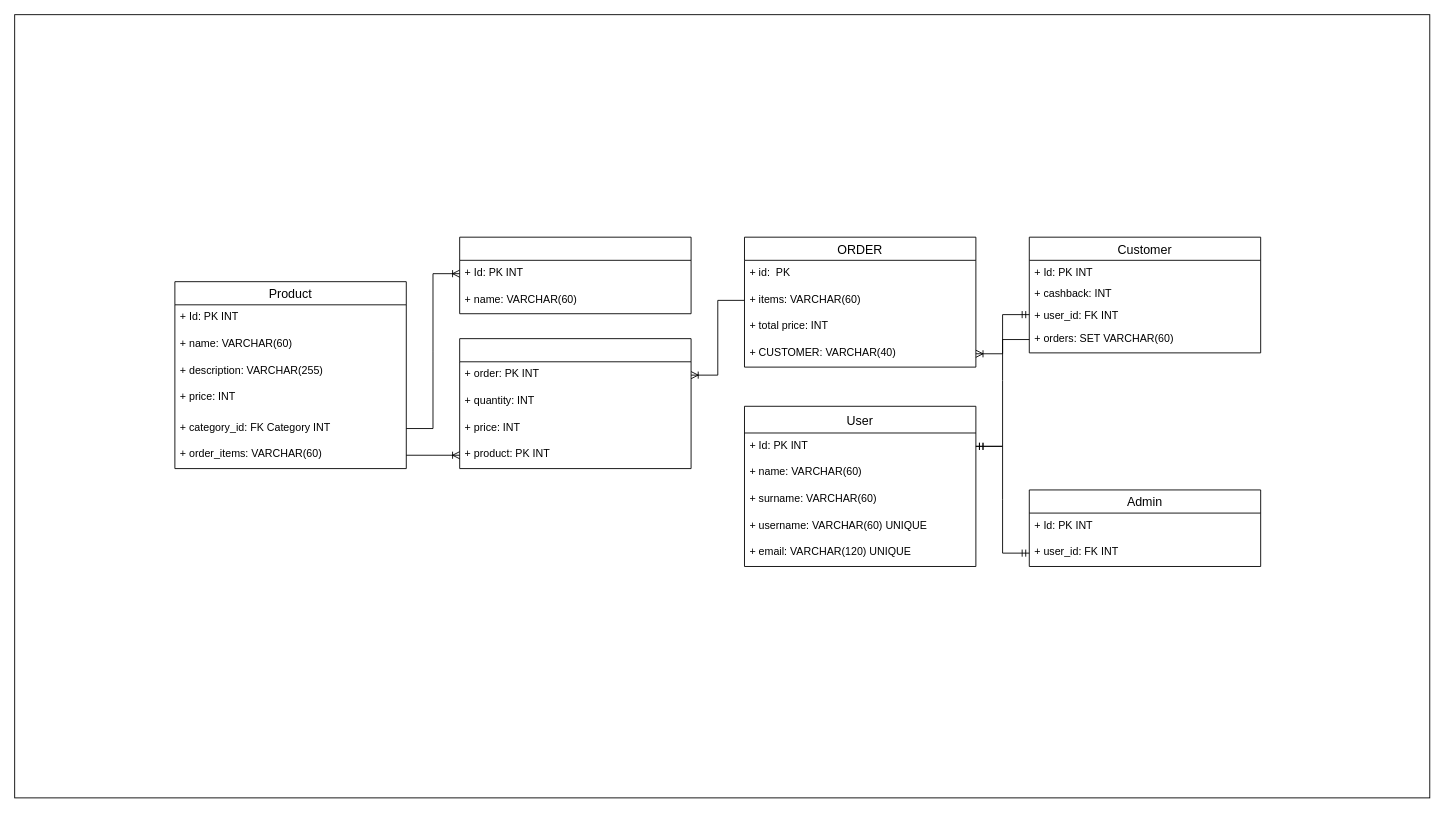
This 1444x813 diagram has some shape labels left out. The box of each missing label's shape, as (x1, y1, x2, y2) in pixels:
Category: (459, 236, 691, 314)
ORDER_ITEMS: (459, 338, 691, 469)
